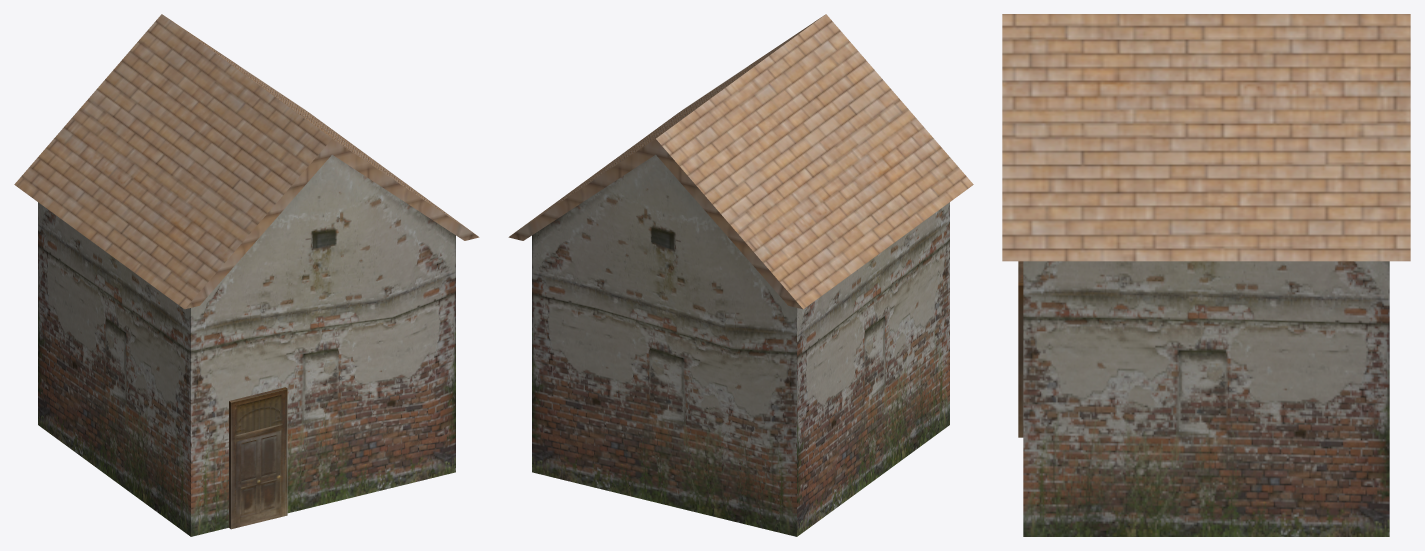
Rendered from smallhouse.fbx.
3 views of the same model, side by side, from view 1: azimuth 30°, elevation 25°; view 2: azimuth 150°, elevation 25°; view 3: azimuth 270°, elevation 25° (orthographic). The views are drawn at different scales.
Parts seen in each view (by area): view 1: house; view 2: house; view 3: house.
Part boxes in pixels (left/top/right/bottom): house: left=14, top=14, right=479, bottom=536; house: left=508, top=14, right=973, bottom=536; house: left=1002, top=14, right=1410, bottom=536.
Bounding box in the file's own units: 780 × 940 × 780.
3 materials, 3 textured.
